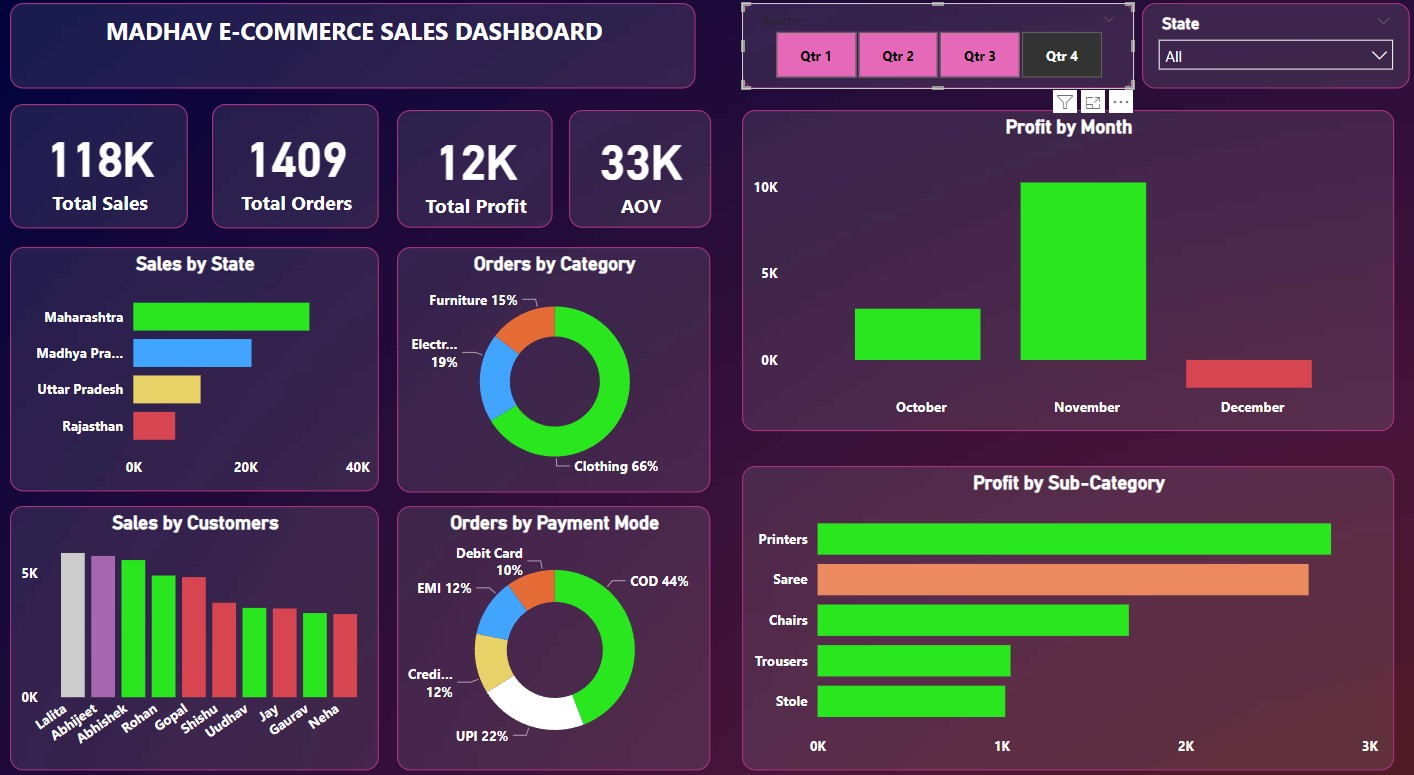

The dashboard page shown, as its layout file describes it:
{"tool":"powerbi","page":{"name":"Page 1","canvas":[1280,720],"ordinal":0},"visuals":[{"type":"textbox","box":[10,5.7,617.1,77.1],"z":0},{"type":"columnChart","title":"Profit by Month","fields":{"Y":["Details.Profit"],"Category":["Orders.Order Date.Variation.Date Hierarchy.Month"]},"box":[669,102,586.8,289.1],"z":1000},{"type":"barChart","fields":{"Y":["Details.Profit"],"Category":["Details.Sub-Category"]},"box":[669,422.4,586.8,273.5],"z":2000},{"type":"donutChart","fields":{"Category":["Details.Category"],"Y":["Details.Quantity"]},"box":[358.6,225.4,282,221.1],"z":3000},{"type":"donutChart","fields":{"Y":["Details.Quantity"],"Category":["Details.PaymentMode"]},"box":[358.6,457.8,282,238.1],"z":4000},{"type":"card","fields":{"Values":["Details.Amount"]},"box":[9.9,96.4,160.2,112],"z":5000},{"type":"card","fields":{"Values":["Details.Profit"]},"box":[358.6,102,140.3,106.3],"z":6000},{"type":"card","fields":{"Values":["Details.AOV"]},"box":[513.1,102,127.6,106.3],"z":7000},{"type":"card","fields":{"Values":["Details.Quantity"]},"box":[191.3,96.4,150.2,112],"z":8000},{"type":"barChart","fields":{"Y":["Details.Amount"],"Category":["Orders.State"]},"box":[9.9,225.4,331.7,219.7],"z":9000},{"type":"columnChart","fields":{"Y":["Details.Amount"],"Category":["Orders.CustomerName"]},"box":[9.9,457.8,331.7,238.1],"z":10000},{"type":"slicer","fields":{"Values":["Orders.Order Date.Variation.Date Hierarchy.Quarter"]},"box":[668.6,5.7,352.9,77.1],"z":11000},{"type":"slicer","fields":{"Values":["Orders.State"]},"box":[1028.6,5.7,241.4,77.1],"z":12000}]}

Visuals, with their boxes in screenshot pixels (x1, y1, x2, y2), scaled from the page's 1280x720 canvas onto the 1414x775 screenshot:
textbox: {"left": 11, "top": 6, "right": 693, "bottom": 89}
"Profit by Month" columnChart: {"left": 739, "top": 110, "right": 1387, "bottom": 421}
barChart - Details.Profit x Details.Sub-Category: {"left": 739, "top": 455, "right": 1387, "bottom": 749}
donutChart - Details.Category x Details.Quantity: {"left": 396, "top": 243, "right": 708, "bottom": 481}
donutChart - Details.Quantity x Details.PaymentMode: {"left": 396, "top": 493, "right": 708, "bottom": 749}
card - Details.Amount: {"left": 11, "top": 104, "right": 188, "bottom": 224}
card - Details.Profit: {"left": 396, "top": 110, "right": 551, "bottom": 224}
card - Details.AOV: {"left": 567, "top": 110, "right": 708, "bottom": 224}
card - Details.Quantity: {"left": 211, "top": 104, "right": 377, "bottom": 224}
barChart - Details.Amount x Orders.State: {"left": 11, "top": 243, "right": 377, "bottom": 479}
columnChart - Details.Amount x Orders.CustomerName: {"left": 11, "top": 493, "right": 377, "bottom": 749}
slicer - Orders.Order Date.Variation.Date Hierarchy.Quarter: {"left": 739, "top": 6, "right": 1128, "bottom": 89}
slicer - Orders.State: {"left": 1136, "top": 6, "right": 1403, "bottom": 89}
